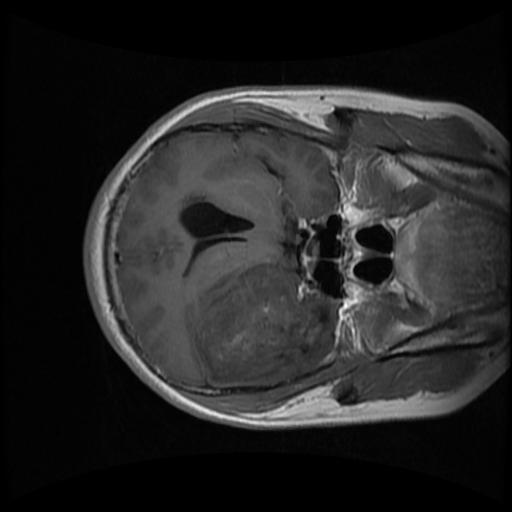glioma: (185, 264, 338, 388)
